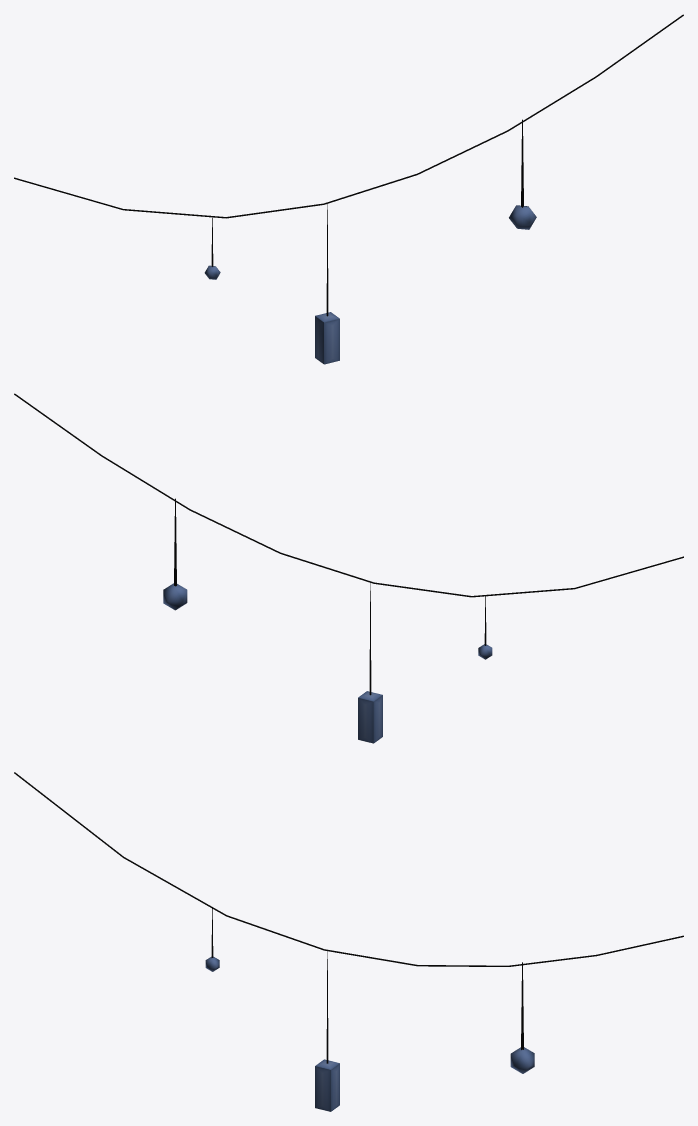
The model's file is Garland_A_3_SpherifyQuadLamps_Blue.fbx.
3 renders of one model, top to bottom at view 1: azimuth 30°, elevation 25°; view 2: azimuth 150°, elevation 25°; view 3: azimuth 330°, elevation 25°, orthographic.
Visible parts, largest first — view 1: Garland_A_3_SpherifyQuadLamps_Blue; view 2: Garland_A_3_SpherifyQuadLamps_Blue; view 3: Garland_A_3_SpherifyQuadLamps_Blue.
Boxes of the visible parts, bbox=[...] form: Garland_A_3_SpherifyQuadLamps_Blue: bbox=[14, 14, 683, 364]; Garland_A_3_SpherifyQuadLamps_Blue: bbox=[14, 393, 683, 743]; Garland_A_3_SpherifyQuadLamps_Blue: bbox=[14, 772, 683, 1111].
Bounding box in the file's own units: 673 × 249 × 24.61.
